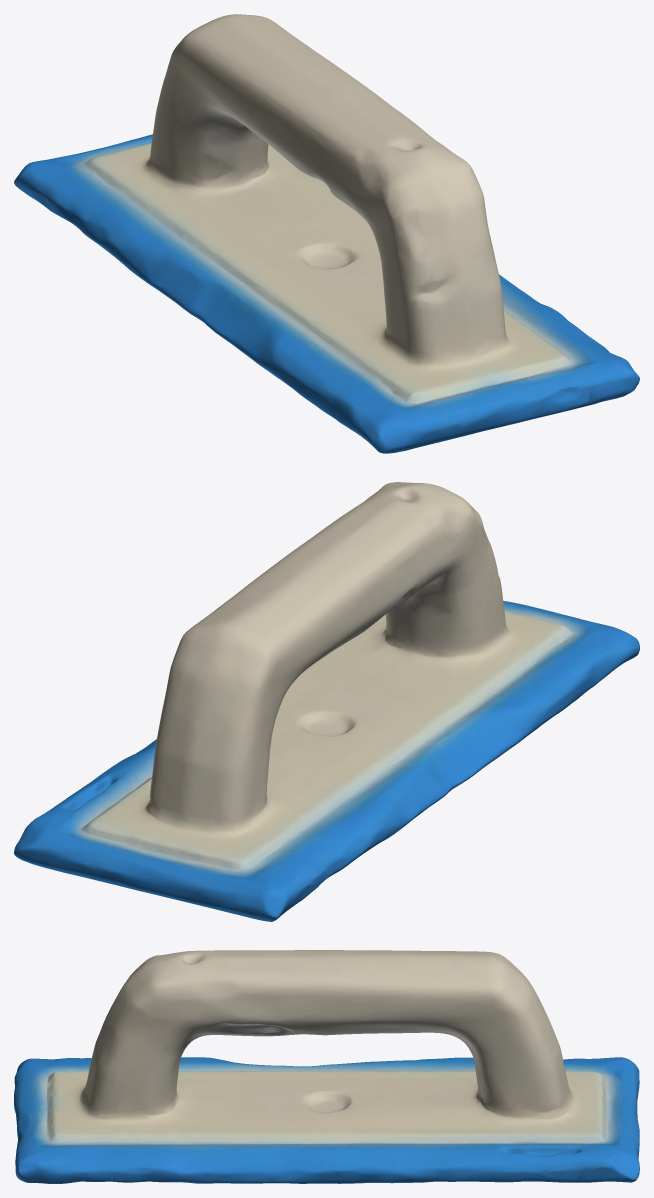
The model's file is epoxy-grout-rubber-float.glb.
3 views of the same model, one above another, from view 1: azimuth 30°, elevation 25°; view 2: azimuth 150°, elevation 25°; view 3: azimuth 270°, elevation 25° (orthographic). The views are drawn at different scales.
Parts seen in each view (by area): view 1: tripo_node_5a1a6f93-05ff-4196-8e67-515692c48b78; view 2: tripo_node_5a1a6f93-05ff-4196-8e67-515692c48b78; view 3: tripo_node_5a1a6f93-05ff-4196-8e67-515692c48b78.
Boxes of the visible parts, x1,y1,x2,y2 form: tripo_node_5a1a6f93-05ff-4196-8e67-515692c48b78: (14,14,639,453); tripo_node_5a1a6f93-05ff-4196-8e67-515692c48b78: (14,482,639,921); tripo_node_5a1a6f93-05ff-4196-8e67-515692c48b78: (14,950,639,1183).
Size of the model in its own units: 0.4179 by 0.3128 by 1.
Materials: 1 (1 with a texture image).
